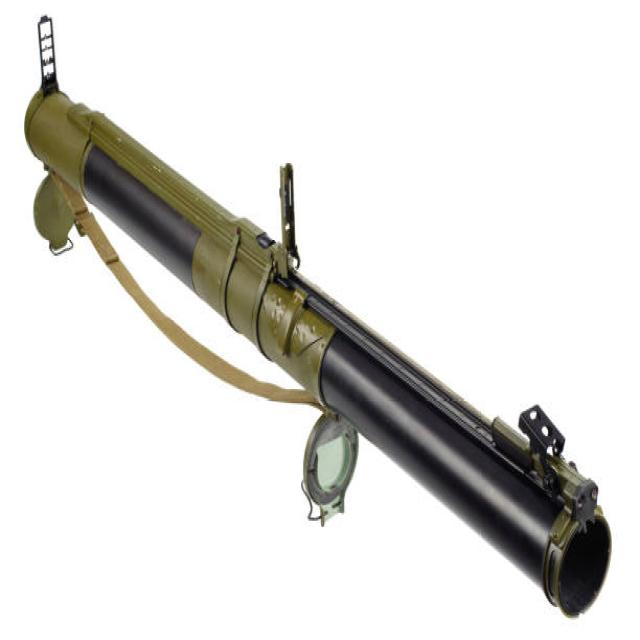bazooka: (19, 4, 617, 629)
